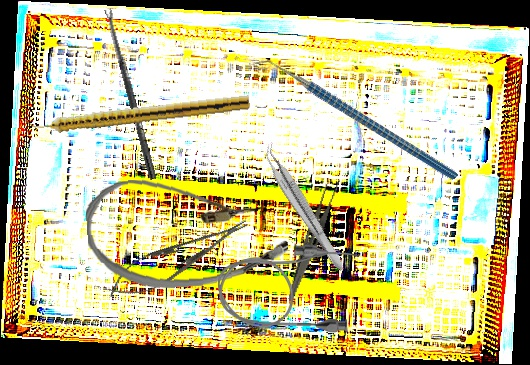Cannula: (83, 169, 291, 294), (217, 242, 359, 334)
Chopper: (248, 5, 459, 234)
Dressing Forceps: (286, 174, 343, 306)
Handpiece: (24, 90, 251, 137)
Needle Holder: (100, 206, 257, 310)
Surgical Spoon: (104, 7, 158, 181)
Tissue Forceps: (255, 141, 354, 274)
